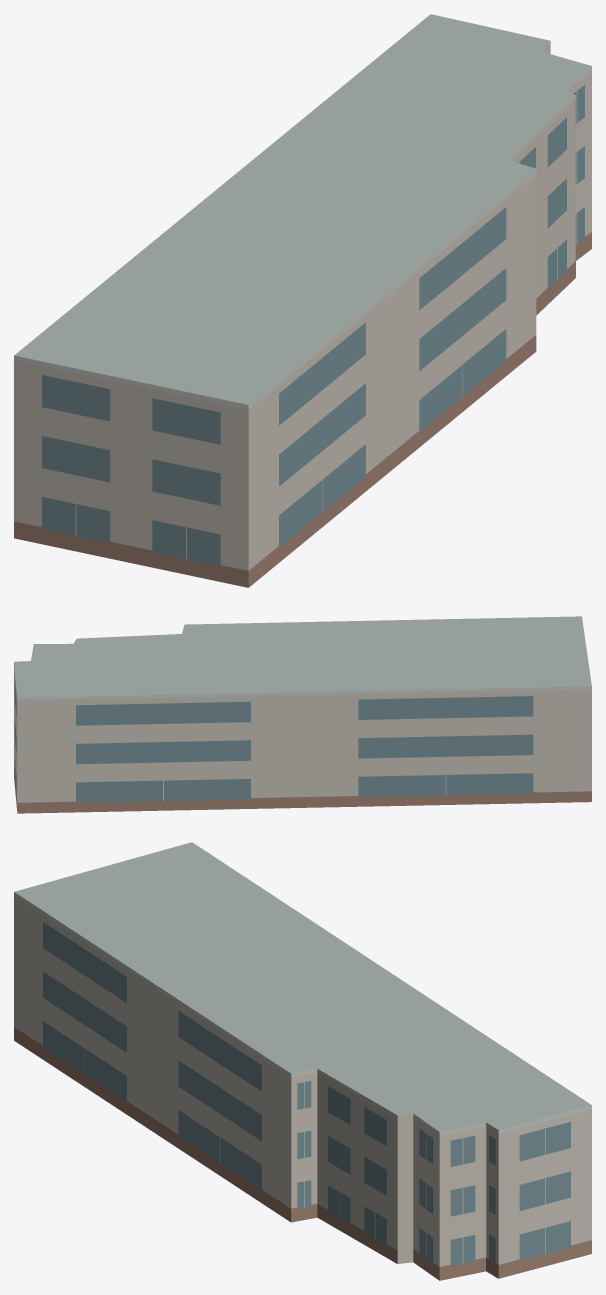
File: survey-upis-32525705.glb
The picture shows the model from 3 angles, top to bottom: view 1: azimuth 30°, elevation 25°; view 2: azimuth 150°, elevation 25°; view 3: azimuth 270°, elevation 25°; orthographic projection. The views are drawn at different scales.
Visible parts, largest first — view 1: survey-upis-32525705.tmp; view 2: survey-upis-32525705.tmp; view 3: survey-upis-32525705.tmp.
Boxes of the visible parts, bbox=[...] form: survey-upis-32525705.tmp: bbox=[14, 14, 591, 587]; survey-upis-32525705.tmp: bbox=[14, 616, 591, 813]; survey-upis-32525705.tmp: bbox=[14, 842, 591, 1280].
Bounding box in the file's own units: 38.23 × 9.15 × 32.2.
